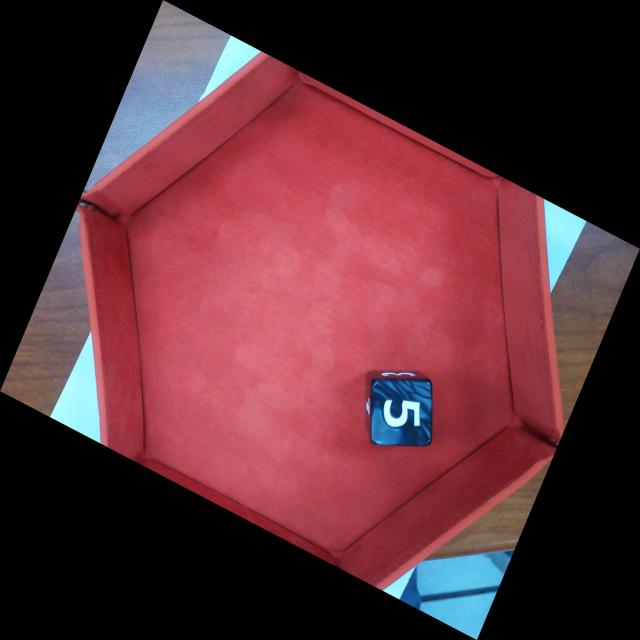dice: (370, 380, 432, 446)
